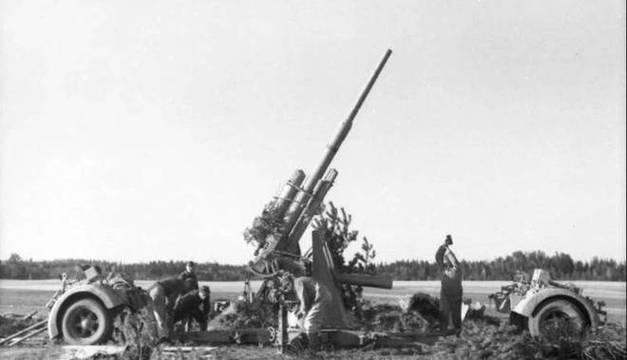MIL_SPG: (182, 50, 392, 350)
